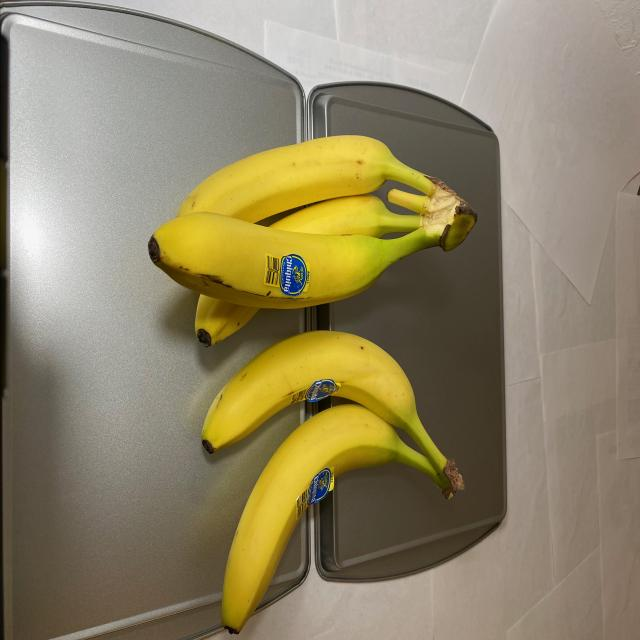Banana: (195, 325, 485, 638), (133, 130, 478, 350)
